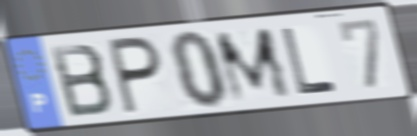0: (165, 30, 232, 111)
7: (334, 16, 383, 93)
B: (46, 41, 116, 121)
L: (278, 25, 340, 96)
M: (211, 24, 295, 105)
P: (105, 34, 164, 117)
